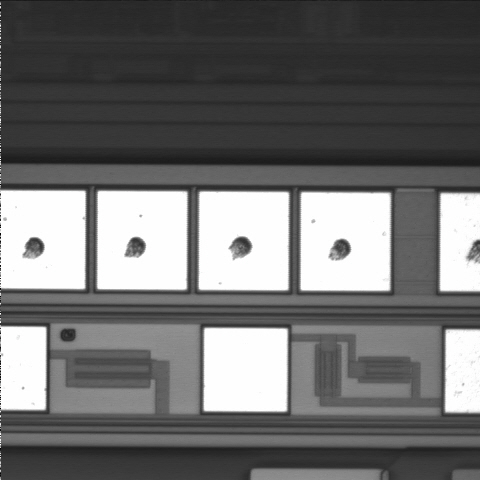pad: (97, 191, 187, 290), (199, 192, 289, 290), (301, 192, 390, 291), (204, 328, 288, 411)
